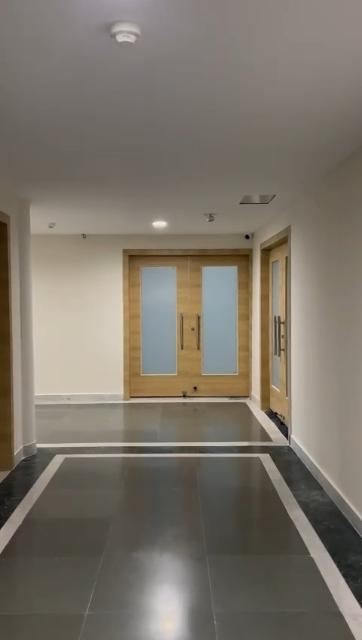door: (129, 250, 253, 398), (260, 248, 290, 428)
floor: (0, 403, 362, 640)
wall: (287, 139, 359, 514), (28, 228, 124, 392), (16, 194, 32, 448)
